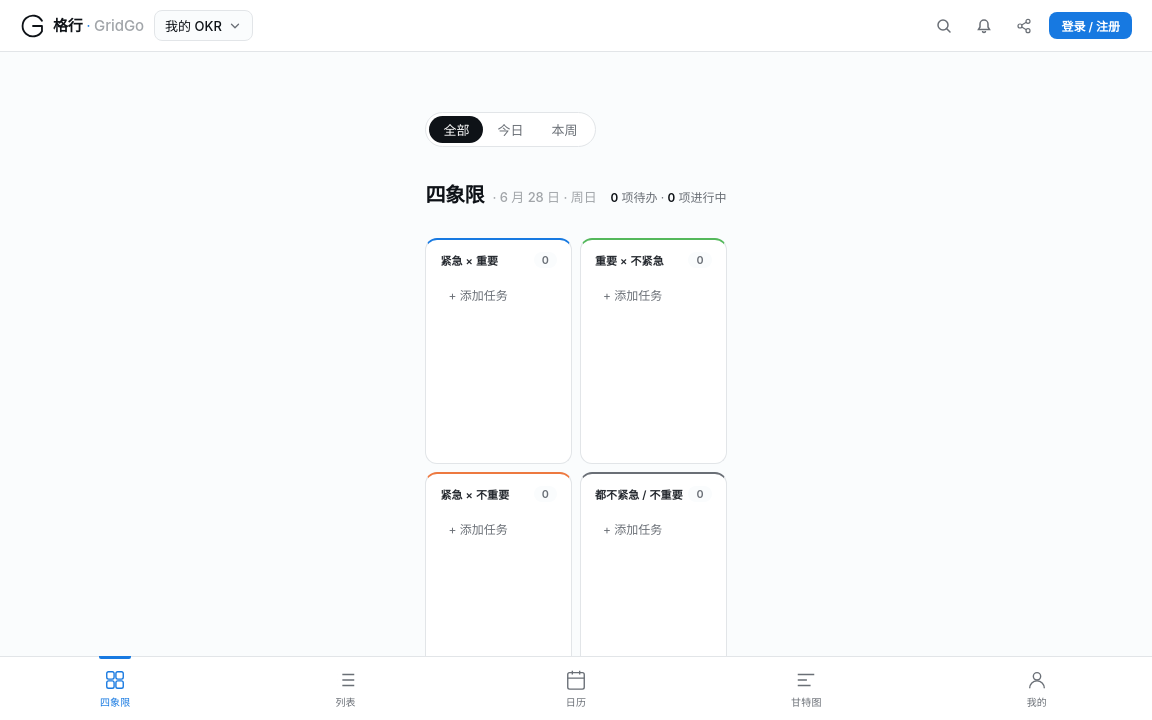
日常操作 7 步流程 › 2. 打开任务 Modal → 加任务 → 关闭 → 任务出现在四象限
The image size is (1152, 720).
点 Q2 的 + 添加任务
Click the button "+ 添加任务" below "紧急 × 重要" at (499, 294), box [440,280,557,309]
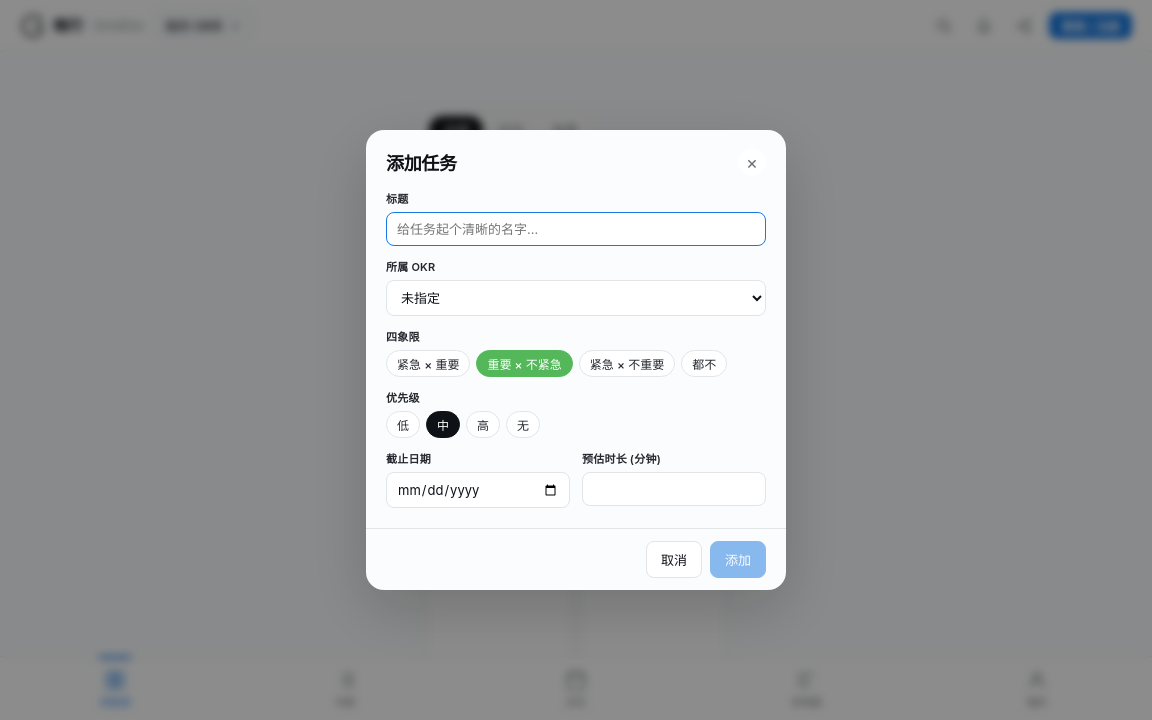
Check: the heading "添加任务" is shown, box [386,149,457,175]
Type "测试任务 E2E" into the field with placeholder "给任务起个清晰的名字…" at (576, 229), box [386,212,766,246]
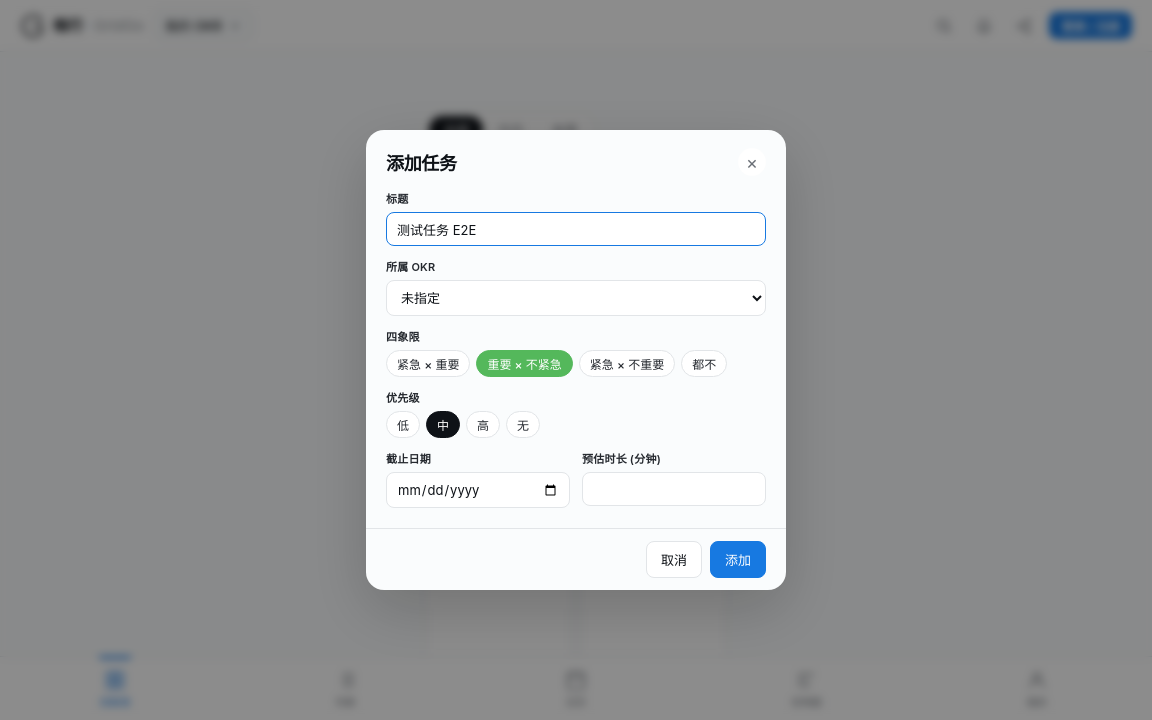
Click the button "添加" at (738, 560), box [710,541,766,578]
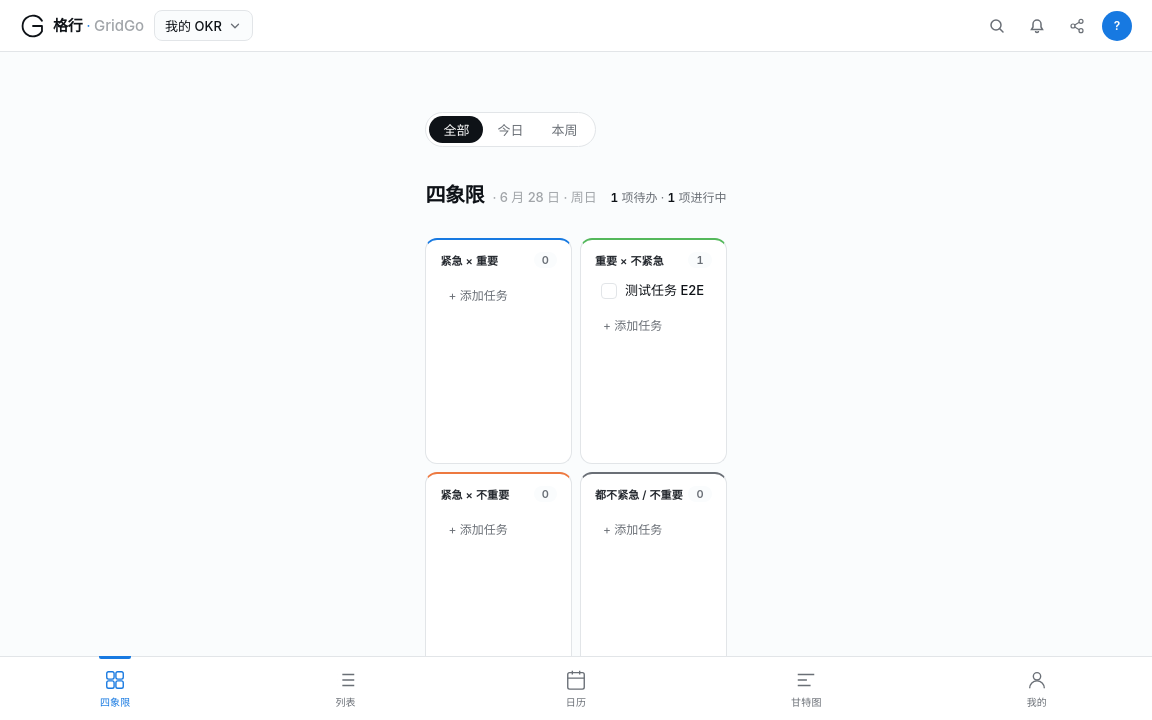
Check: the text "测试任务 E2E" is shown, box [625,282,706,300]
